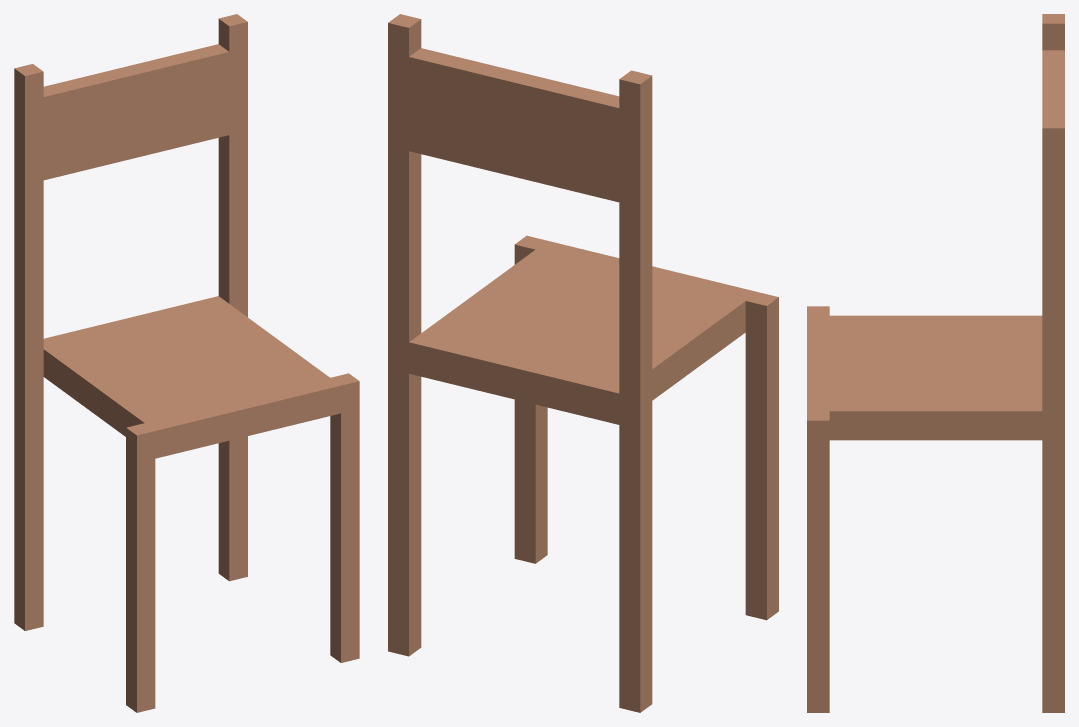
File: Chair.fbx
The picture shows the model from 3 angles, left to right: view 1: azimuth 30°, elevation 25°; view 2: azimuth 150°, elevation 25°; view 3: azimuth 270°, elevation 25°; orthographic projection. The views are drawn at different scales.
Visible parts, largest first — view 1: Chair; view 2: Chair; view 3: Chair.
Part boxes in pixels (x1,y1,x2,y2): Chair: (14,14,359,712); Chair: (388,14,778,712); Chair: (807,14,1064,712).
Bounding box in the file's own units: 0.315 × 0.75 × 0.3.
